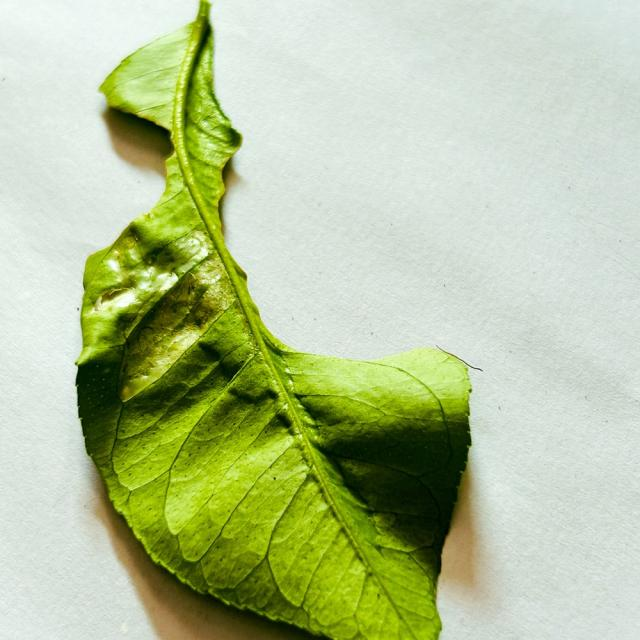Deficiency Leaf: (221, 121, 449, 359), (65, 95, 171, 253)
Lemon: (76, 1, 471, 639)
